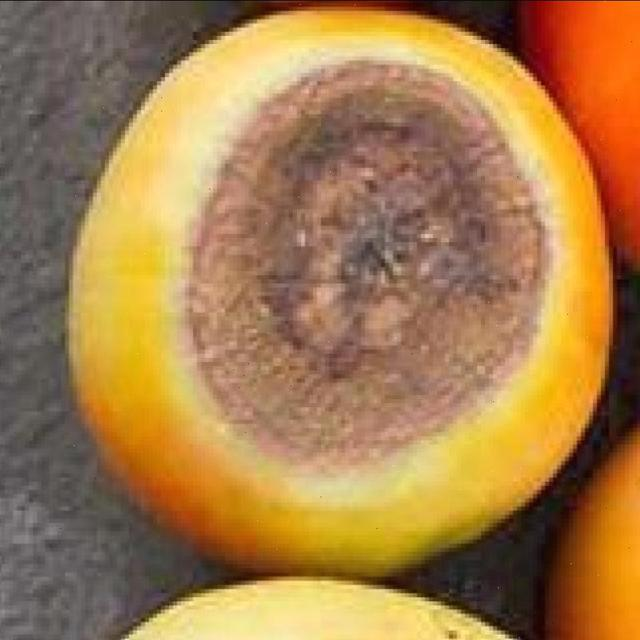Blossom End Rot Fruit: (123, 40, 374, 315)
